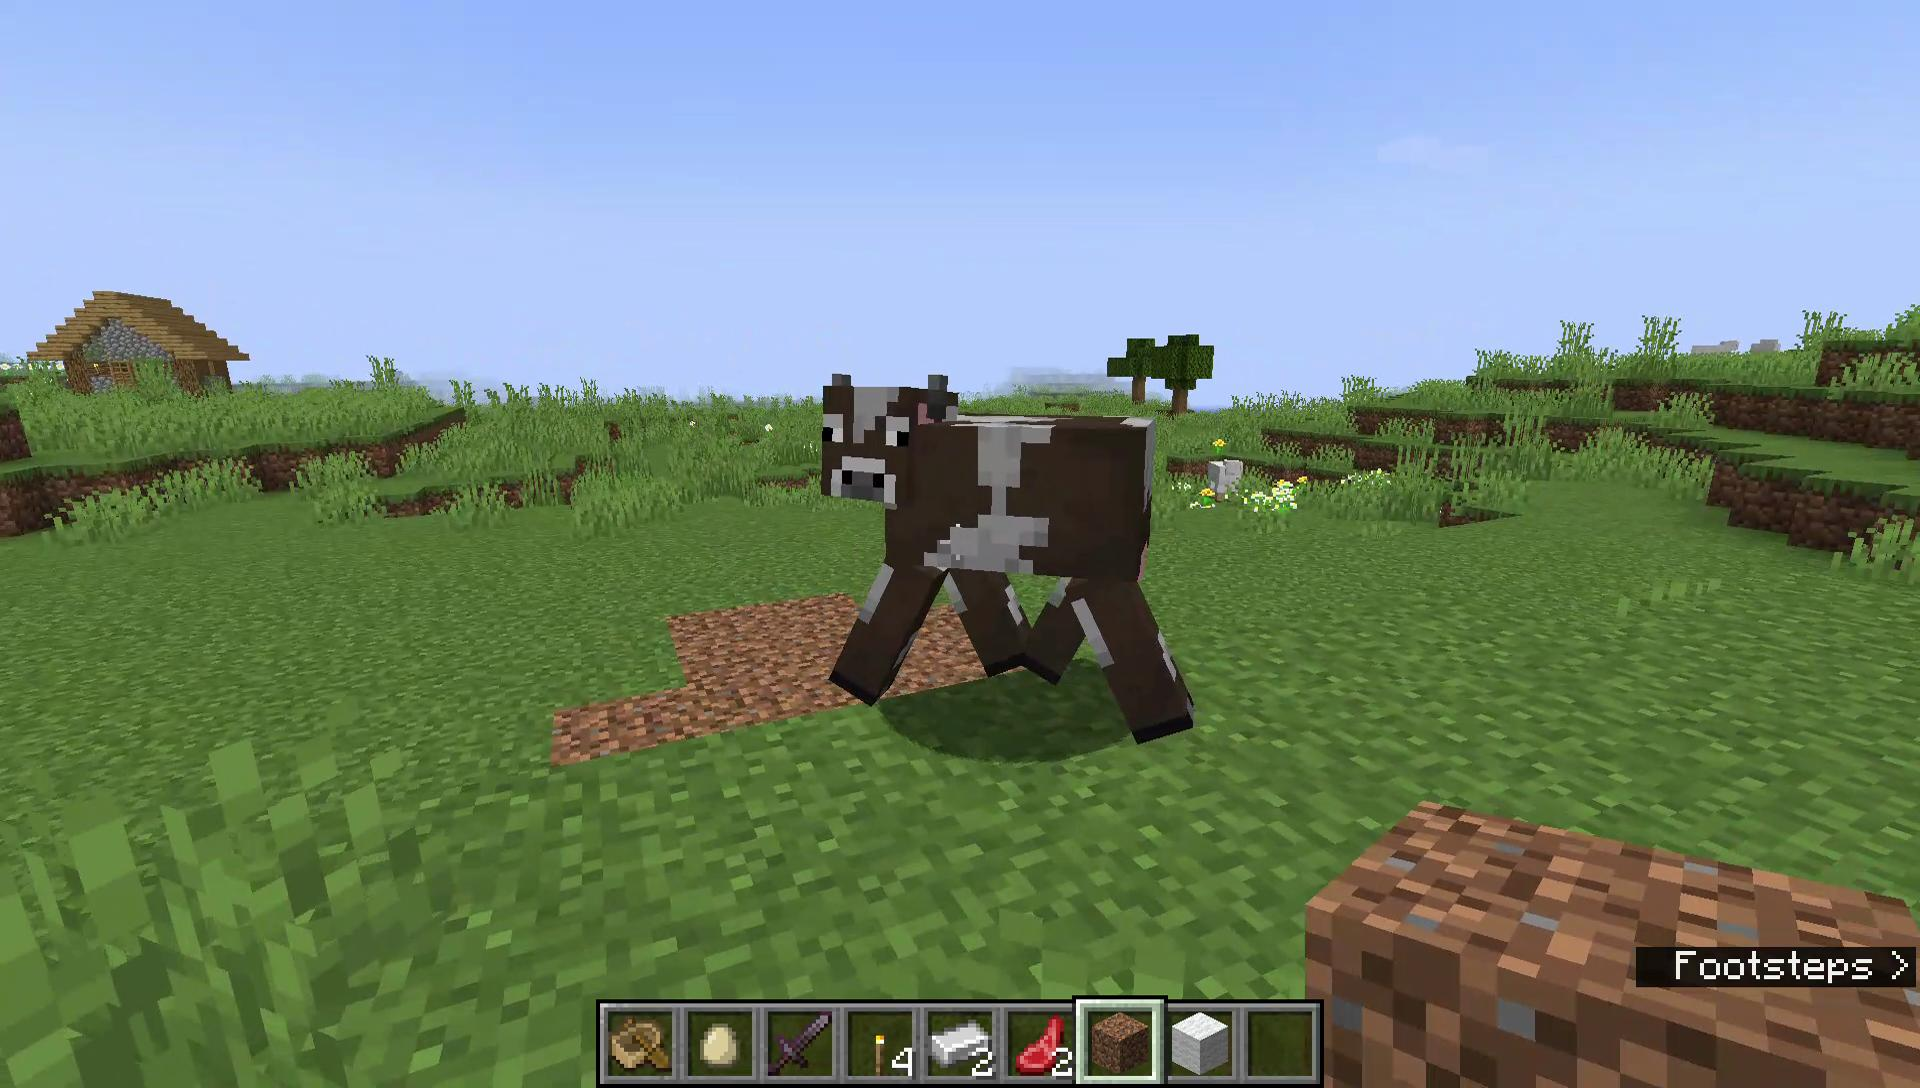cow: (815, 360, 1203, 748)
sheep: (1208, 452, 1246, 510), (1688, 338, 1741, 367), (1749, 336, 1783, 361)
